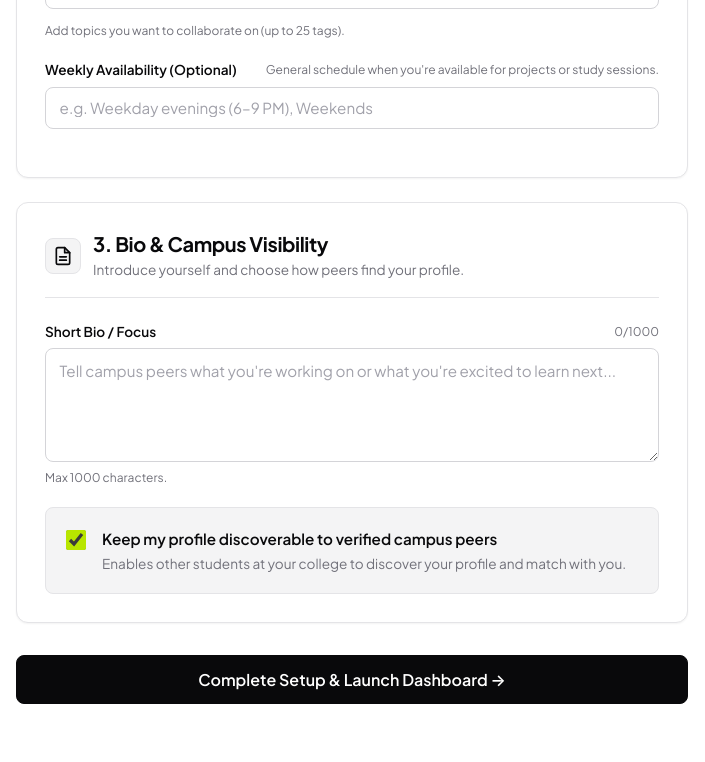
Test: Slice 2: Student Identity & Onboarding Integration › Onboarding Workflow › validates required fields before submitting onboarding
(page scrolled)
Click the button "Complete Setup & Launch Dashboard →". click: (352, 680)
box: [16,656,688,704]
(page scrolled)
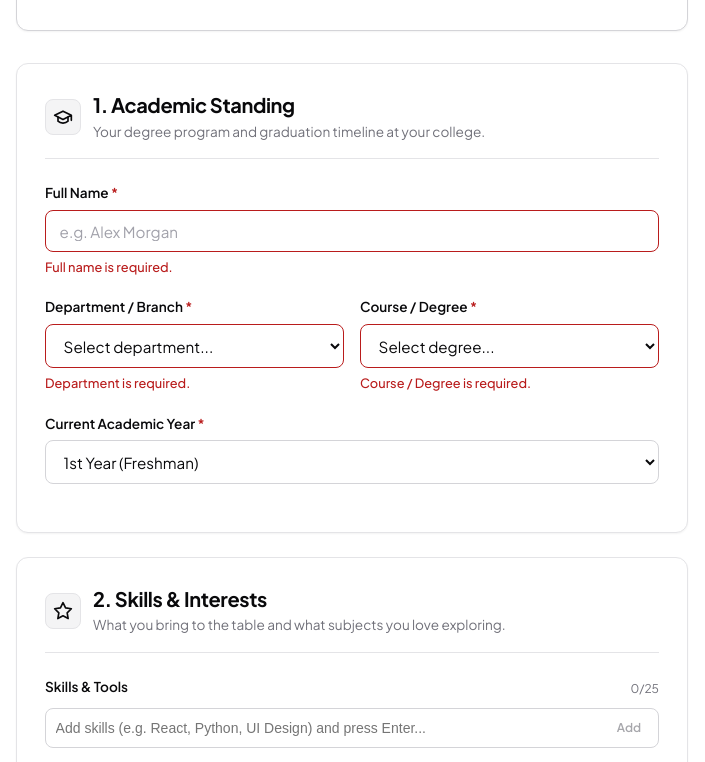
Check: the text "Full name is required." is shown, box [45,259,173,275]
Check: the text "Department is required." is shown, box [45,375,190,391]
Check: the text "Course / Degree is required." is shown, box [360,375,531,391]
